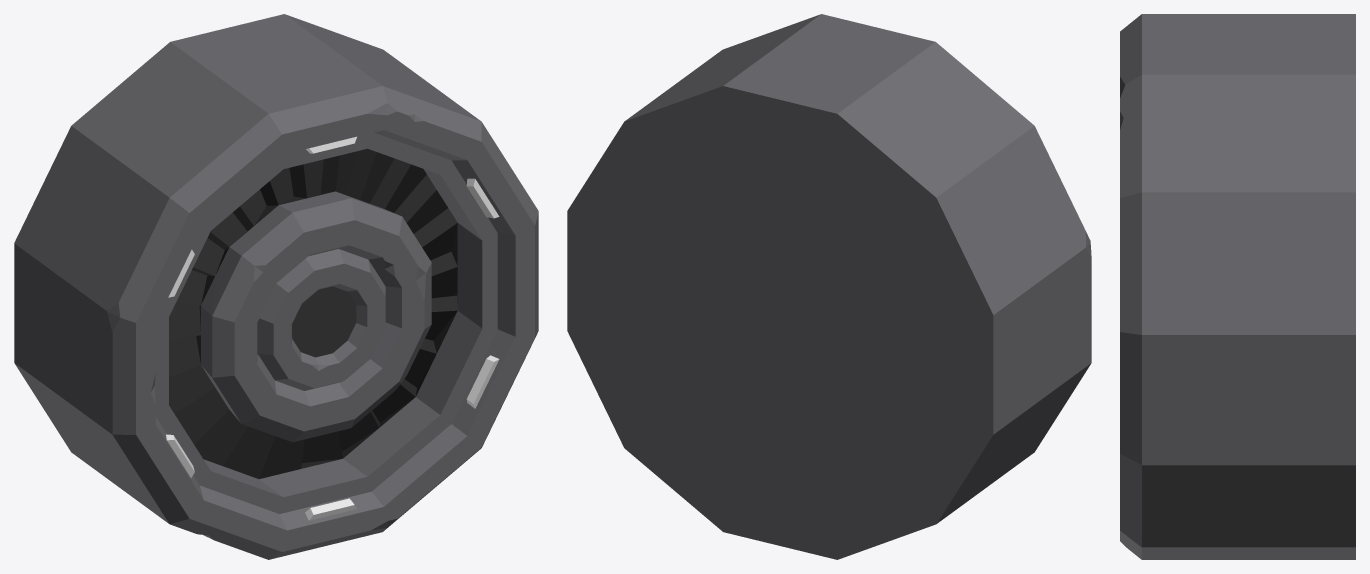
File: SM_Prop_AirVent_Large_01.glb
3 renders of one model, left to right at view 1: azimuth 30°, elevation 25°; view 2: azimuth 150°, elevation 25°; view 3: azimuth 270°, elevation 25°, orthographic. The views are drawn at different scales.
Parts seen in each view (by area): view 1: SM_Prop_AirVent_Large_01; view 2: SM_Prop_AirVent_Large_01; view 3: SM_Prop_AirVent_Large_01.
Part boxes in pixels (<box>): SM_Prop_AirVent_Large_01: <box>14,14,538,559</box>; SM_Prop_AirVent_Large_01: <box>567,14,1091,559</box>; SM_Prop_AirVent_Large_01: <box>1120,14,1355,559</box>.
Size of the model in its own units: 2.39 by 2.39 by 1.05.
Materials: 1 (1 with a texture image).
